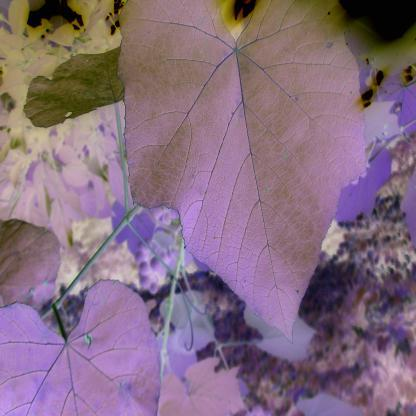grape leaf black rot: (119, 0, 378, 336)
